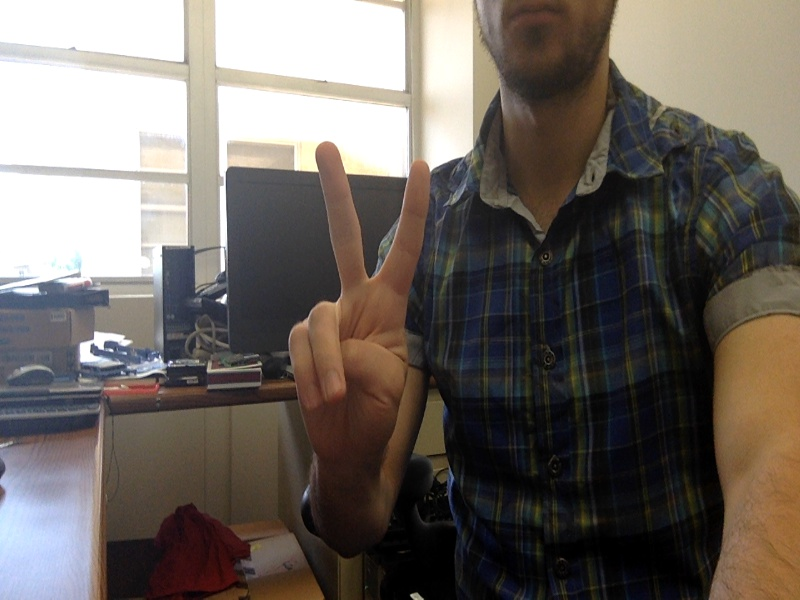2-hand: (286, 143, 435, 471)
